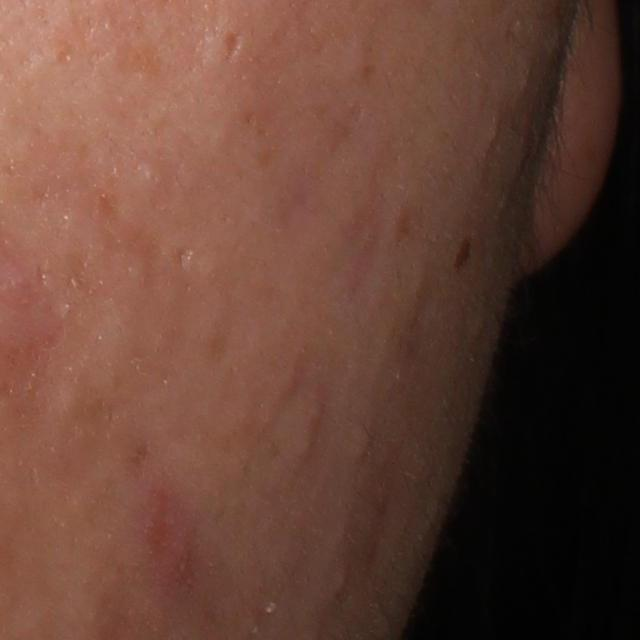atrophic_scar: (223, 29, 243, 63), (172, 243, 192, 270)
comedo: (136, 158, 168, 193)
nevus: (454, 238, 473, 269)
